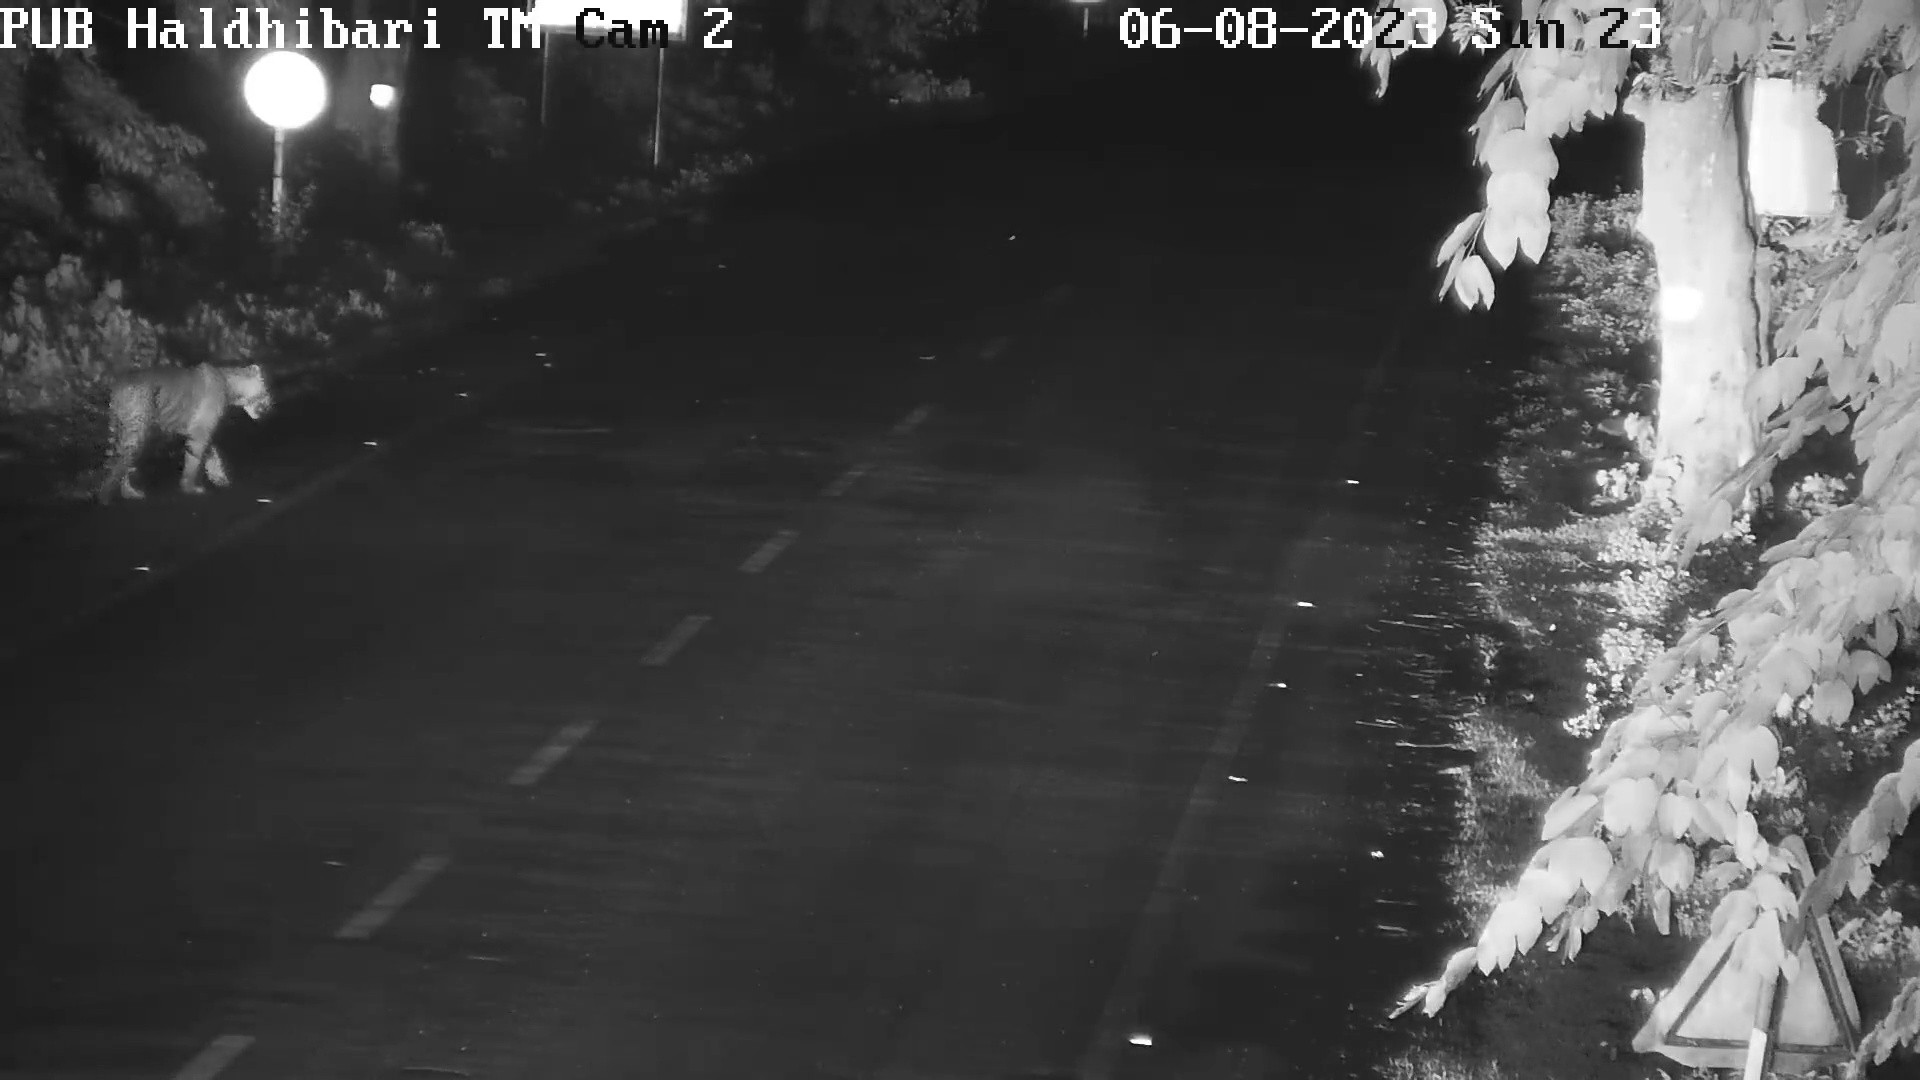tigers: (87, 359, 277, 498)
